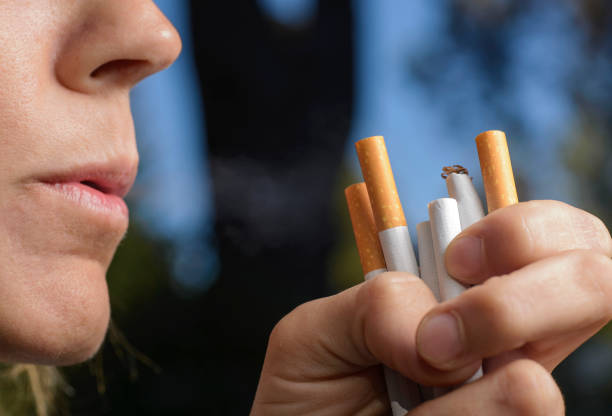cigarette: (345, 181, 423, 416), (352, 134, 420, 281), (426, 195, 472, 305), (474, 127, 518, 214), (440, 163, 486, 234), (417, 220, 440, 304)
